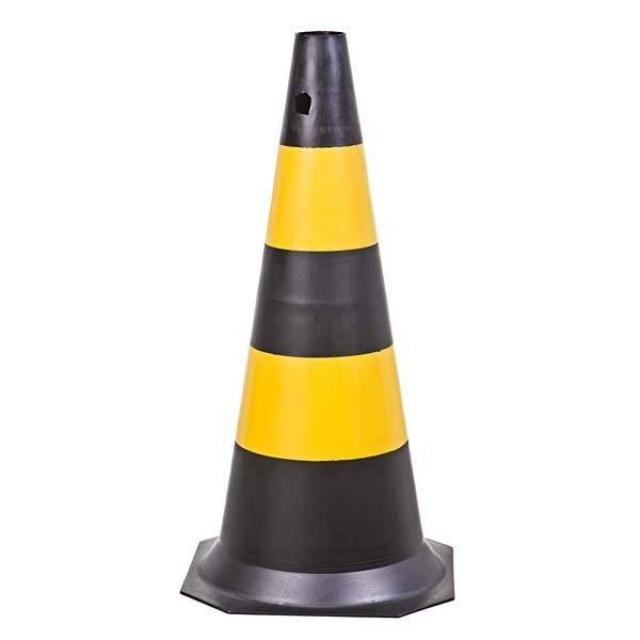cone: (190, 20, 486, 623)
